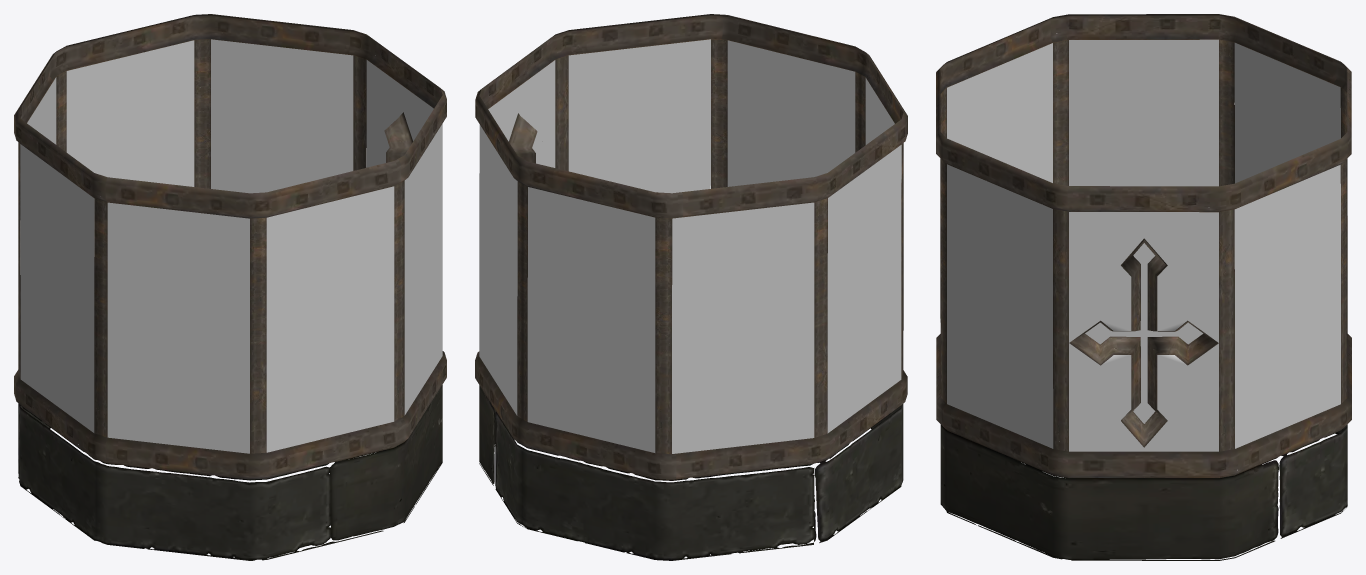
3 renders of one model, left to right at view 1: azimuth 30°, elevation 25°; view 2: azimuth 150°, elevation 25°; view 3: azimuth 270°, elevation 25°, orthographic.
Parts seen in each view (by area): view 1: SM_Dowdun_Corner_Turret_02_LOD0; view 2: SM_Dowdun_Corner_Turret_02_LOD0; view 3: SM_Dowdun_Corner_Turret_02_LOD0.
Boxes of the visible parts, x1=… form: SM_Dowdun_Corner_Turret_02_LOD0: x1=14, y1=14, x2=446, y2=560; SM_Dowdun_Corner_Turret_02_LOD0: x1=475, y1=14, x2=907, y2=560; SM_Dowdun_Corner_Turret_02_LOD0: x1=936, y1=14, x2=1351, y2=560.
Size of the model in its own units: 6.04 by 6.01 by 6.04.
Materials: 2 (1 with a texture image).
